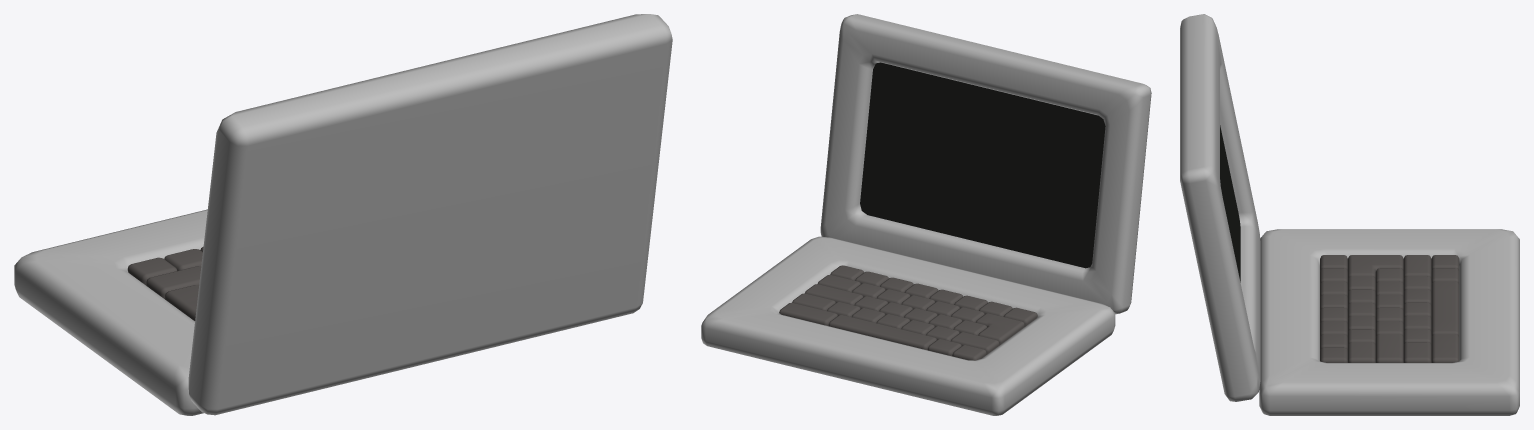
File: SM_laptop.glb
3 renders of one model, left to right at view 1: azimuth 30°, elevation 25°; view 2: azimuth 150°, elevation 25°; view 3: azimuth 270°, elevation 25°, orthographic. The views are drawn at different scales.
Parts seen in each view (by area): view 1: SM_laptop; view 2: SM_laptop; view 3: SM_laptop.
Part boxes in pixels (<box>): SM_laptop: <box>14,14,672,415</box>; SM_laptop: <box>701,14,1151,415</box>; SM_laptop: <box>1180,14,1519,415</box>.
Bounding box in the file's own units: 0.5044 × 0.3621 × 0.4487.
Materials: 1 (1 with a texture image).
